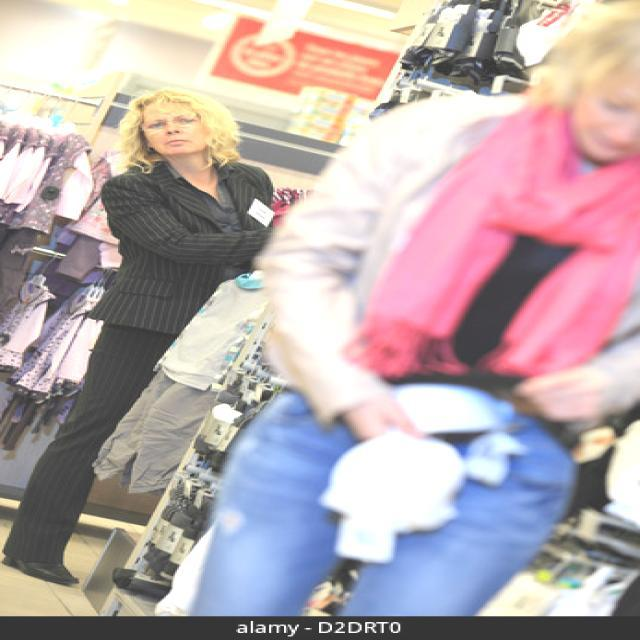shoplifting: (243, 227, 566, 551)
